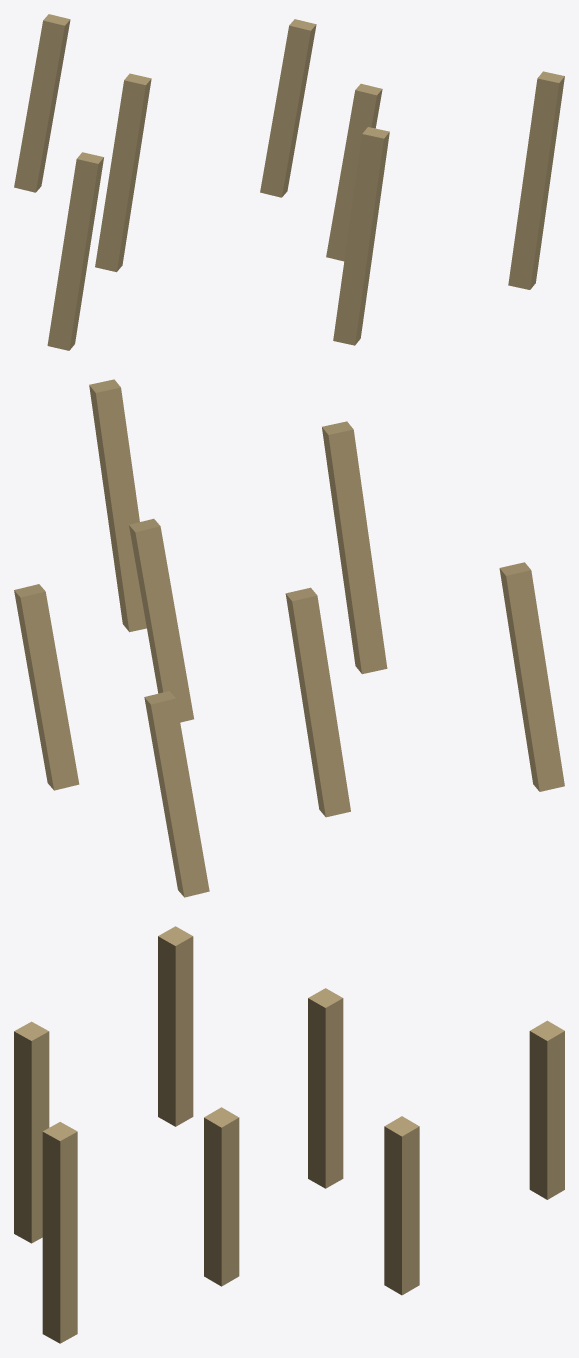
File: plant_wild_grain_spent.glb
3 renders of one model, top to bottom at view 1: azimuth 30°, elevation 25°; view 2: azimuth 150°, elevation 25°; view 3: azimuth 270°, elevation 25°, orthographic. The views are drawn at different scales.
Parts seen in each view (by area): view 1: plant_wild_grain_spent; view 2: plant_wild_grain_spent; view 3: plant_wild_grain_spent.
Part boxes in pixels (x1,y1,x2,y2): plant_wild_grain_spent: (14,14,564,350); plant_wild_grain_spent: (14,379,564,897); plant_wild_grain_spent: (14,926,564,1343).
Size of the model in its own units: 0.3989 by 0.1681 by 0.3756.
